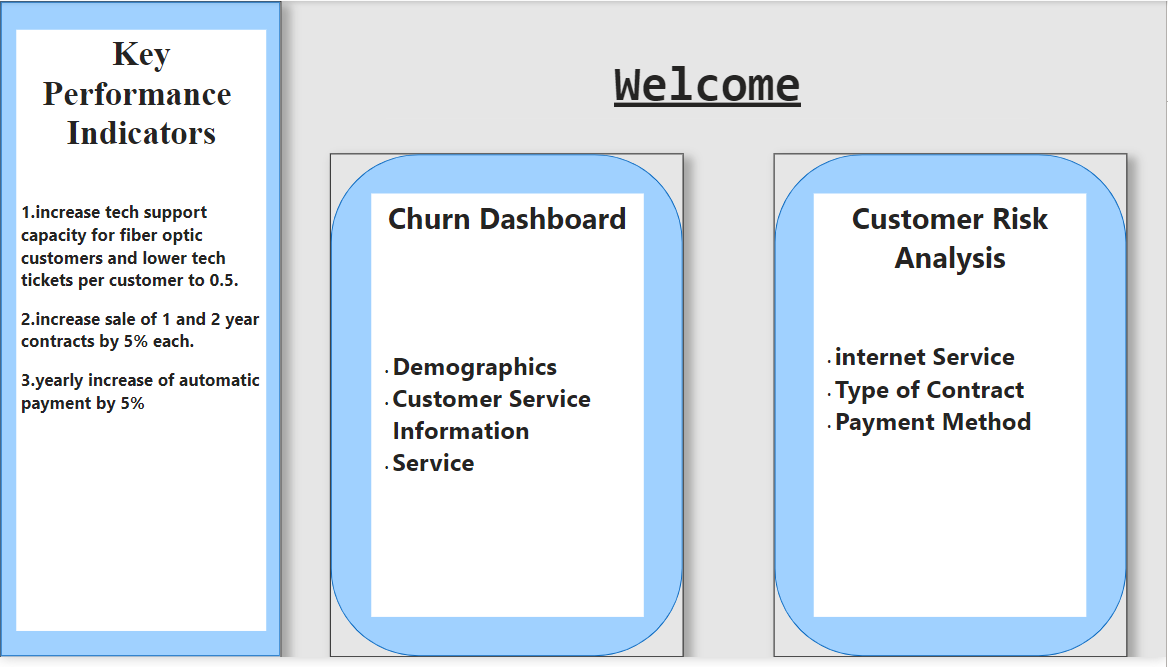

Layout of this report page (visuals, bound fields, positions):
{"tool":"powerbi","page":{"name":"Welcome","canvas":[1280,720],"ordinal":0},"visuals":[{"type":"shape","box":[0,0,308.7,720.4],"z":0},{"type":"textbox","box":[17.8,31.6,274.4,660],"z":1000},{"type":"textbox","box":[424,41.2,705.3,87.8],"z":2000},{"type":"shape","box":[362.3,167.4,388.3,553],"z":3000},{"type":"shape","box":[849.4,167.4,388.3,553],"z":4000},{"type":"textbox","box":[407.5,211.3,299.1,465.2],"z":5000},{"type":"textbox","box":[893.3,211.3,299.1,465.2],"z":6000}]}

Visuals, with their boxes in screenshot pixels (x1, y1, x2, y2), scaled from the page's 1280x720 canvas onto the 1168x667 screenshot:
shape: {"x1": 0, "y1": 0, "x2": 282, "y2": 666}
textbox: {"x1": 16, "y1": 29, "x2": 267, "y2": 641}
textbox: {"x1": 387, "y1": 38, "x2": 1030, "y2": 120}
shape: {"x1": 331, "y1": 155, "x2": 685, "y2": 666}
shape: {"x1": 775, "y1": 155, "x2": 1129, "y2": 666}
textbox: {"x1": 372, "y1": 196, "x2": 645, "y2": 627}
textbox: {"x1": 815, "y1": 196, "x2": 1088, "y2": 627}
